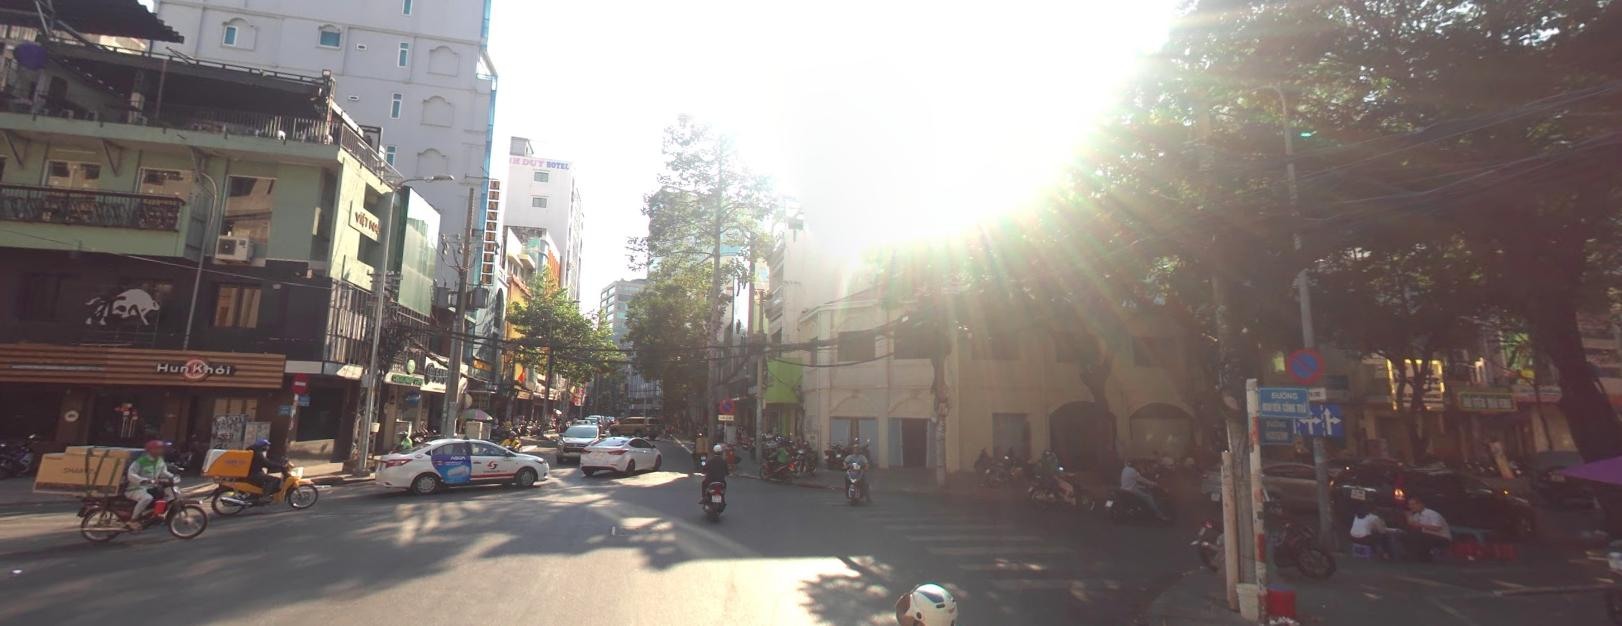Cam dung va do: (1286, 347, 1324, 382), (718, 396, 734, 412)
Cam nguoc chieu: (292, 369, 307, 393)
